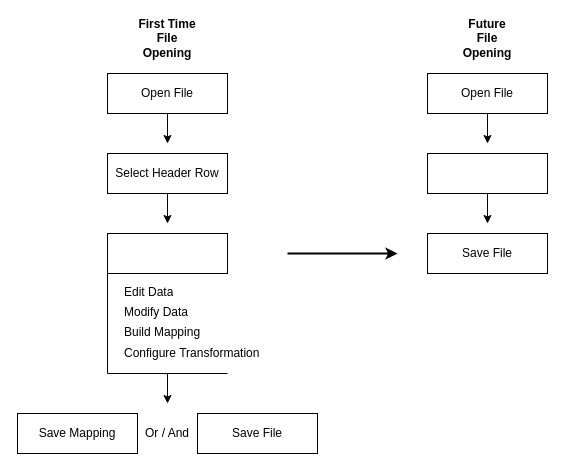
Some shapes in this 565 by 471 pixel diagram are drawn without their labels. The centre of each missing label's shape, as x and y in pixels:
"Select and Apply available mapping" belongs at point 487,173.
"Transformations" belongs at point 167,253.
